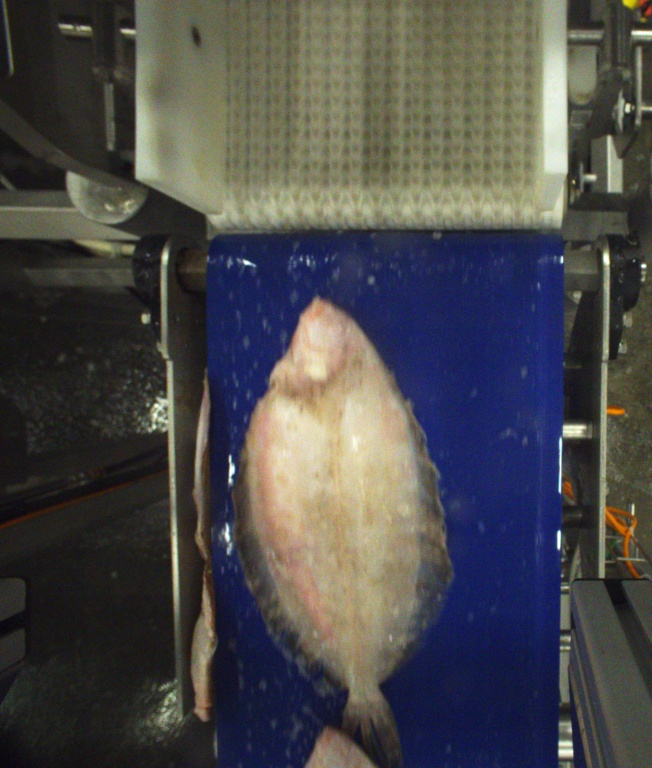WIT: (228, 296, 453, 758)
